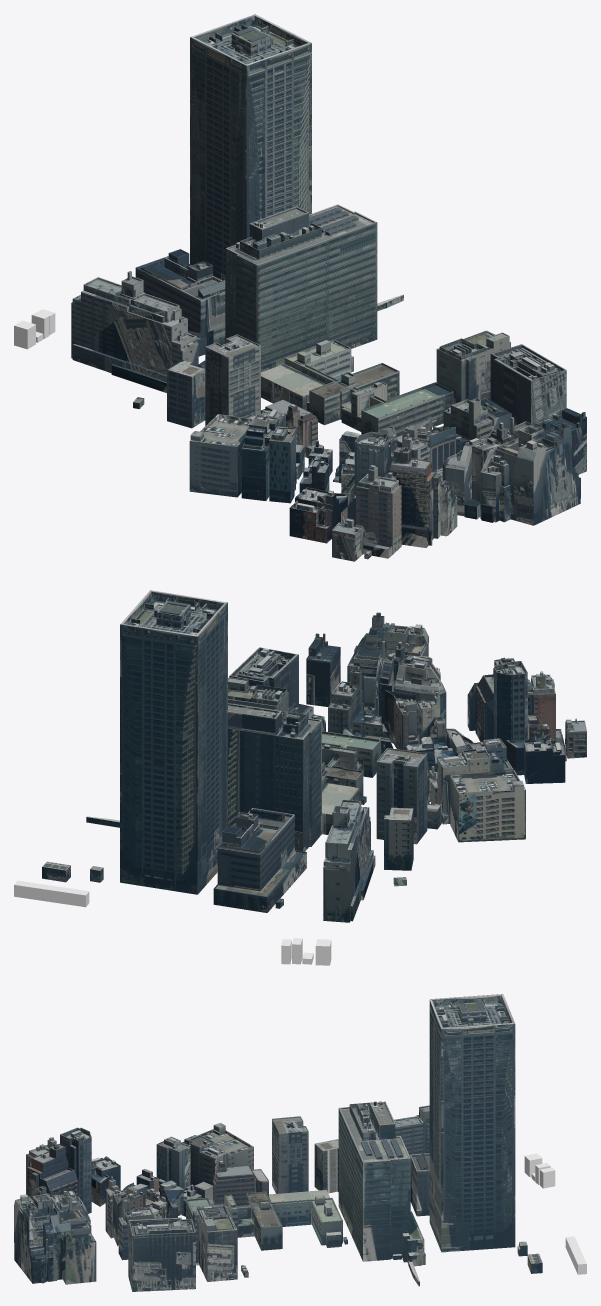
The model's file is building_-2_-3.glb.
3 views of the same model, one above another, from view 1: azimuth 30°, elevation 25°; view 2: azimuth 150°, elevation 25°; view 3: azimuth 270°, elevation 25° (orthographic). The views are drawn at different scales.
Size of the model in its own units: 186 by 159 by 329.
3 materials, 2 textured.
